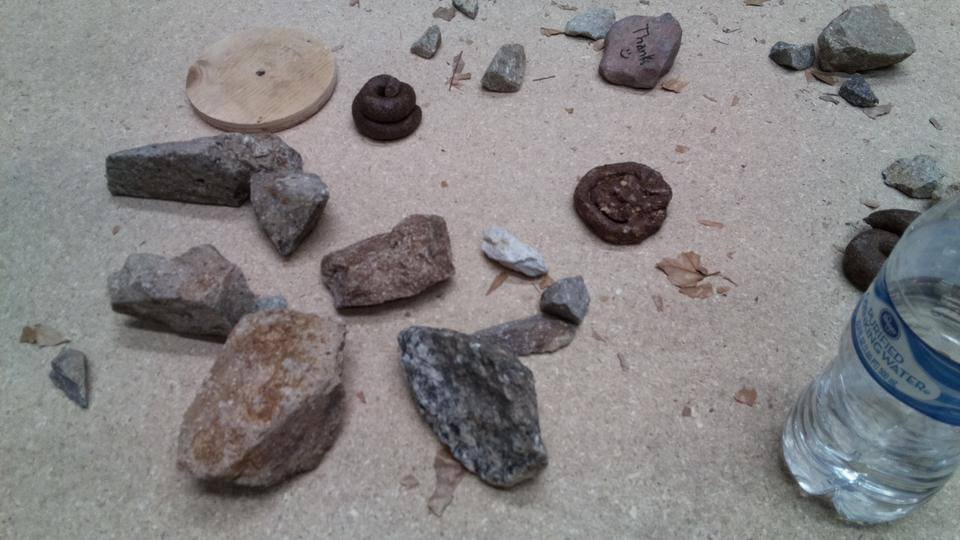poop: (571, 160, 675, 247), (839, 207, 928, 291), (349, 73, 427, 146)
